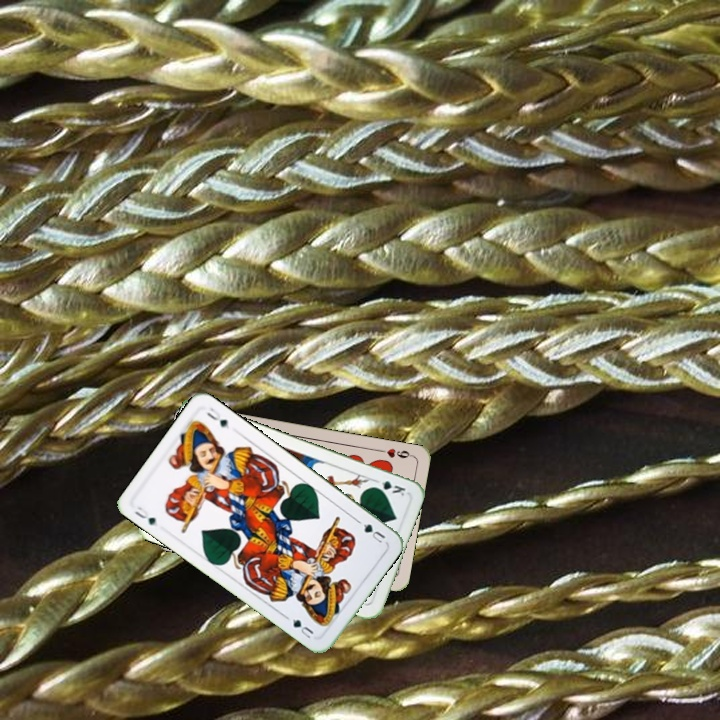GK: (368, 475, 408, 499)
GU: (354, 516, 388, 546), (131, 502, 160, 529)
H9: (374, 444, 415, 461)
